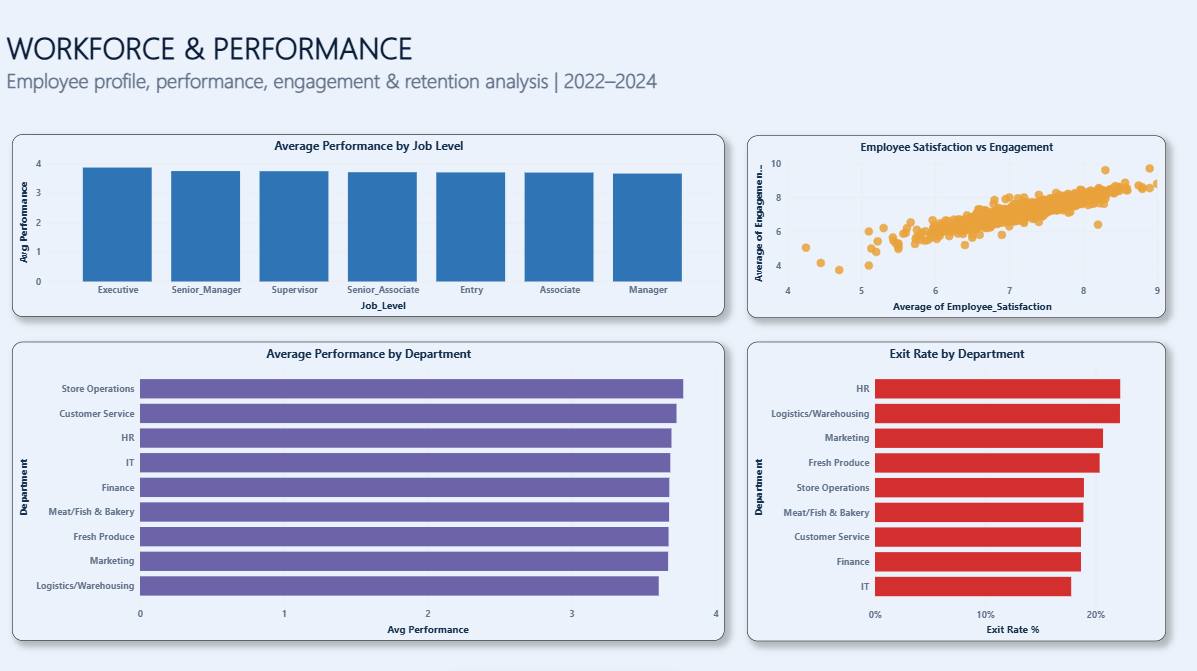

Layout of this report page (visuals, bound fields, positions):
{"tool":"powerbi","page":{"name":"WORKFORCE & PERFORMANCE","canvas":[1920,1080],"ordinal":1},"visuals":[{"type":"textbox","box":[9.4,21.2,1895,174.6],"z":0},{"type":"clusteredColumnChart","title":"Average Performance by Job Level","fields":{"Category":["employees_clean.Job_Level"],"Y":["business_outcomes_clean.Avg Performance"]},"box":[9.1,248.8,1153,291.3],"z":1000},{"type":"scatterChart","title":"Employee Satisfaction vs Engagement","fields":{"Category":["monthly_performance_clean.Employee_Id"],"X":["Avg(monthly_performance_clean.Employee_Satisfaction)"],"Y":["Avg(monthly_performance_clean.Engagement_Index)"]},"box":[1199.8,247.9,669.6,291.4],"z":2000},{"type":"clusteredBarChart","title":"Average Performance by Department","fields":{"Category":["employees_clean.Department"],"Y":["business_outcomes_clean.Avg Performance"]},"box":[9.4,549.9,1154,479.1],"z":3000},{"type":"clusteredBarChart","title":"Exit Rate by Department","fields":{"Category":["employees_clean.Department"],"Y":["business_outcomes_clean.Exit Rate %"]},"box":[1200,550,670,479],"z":4000}]}

Visuals, with their boxes in screenshot pixels (x1, y1, x2, y2), scaled from the page's 1920x1080 canvas onto the 1197x671 screenshot:
textbox: x1=6, y1=13, x2=1187, y2=122
"Average Performance by Job Level" clusteredColumnChart: x1=6, y1=155, x2=724, y2=336
"Employee Satisfaction vs Engagement" scatterChart: x1=748, y1=154, x2=1165, y2=335
"Average Performance by Department" clusteredBarChart: x1=6, y1=342, x2=725, y2=639
"Exit Rate by Department" clusteredBarChart: x1=748, y1=342, x2=1166, y2=639
